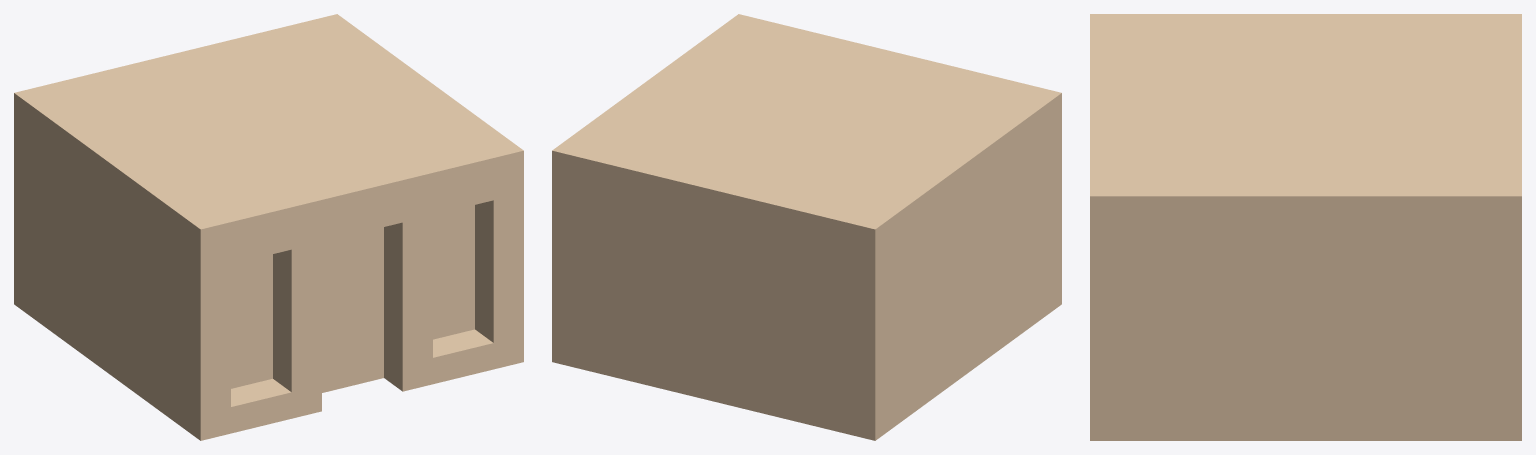
Rendered from building-window-door-window.obj.
The picture shows the model from 3 angles, left to right: view 1: azimuth 30°, elevation 25°; view 2: azimuth 150°, elevation 25°; view 3: azimuth 270°, elevation 25°; orthographic projection. The views are drawn at different scales.
Bounding box in the file's own units: 1 × 0.625 × 1.
